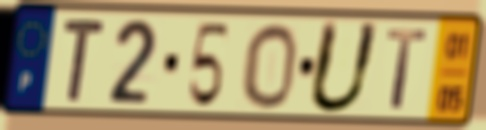2: (103, 17, 160, 108)
5: (186, 19, 232, 108)
O: (240, 20, 300, 112)
T: (60, 15, 109, 105), (384, 26, 430, 113)
U: (304, 18, 384, 117)
